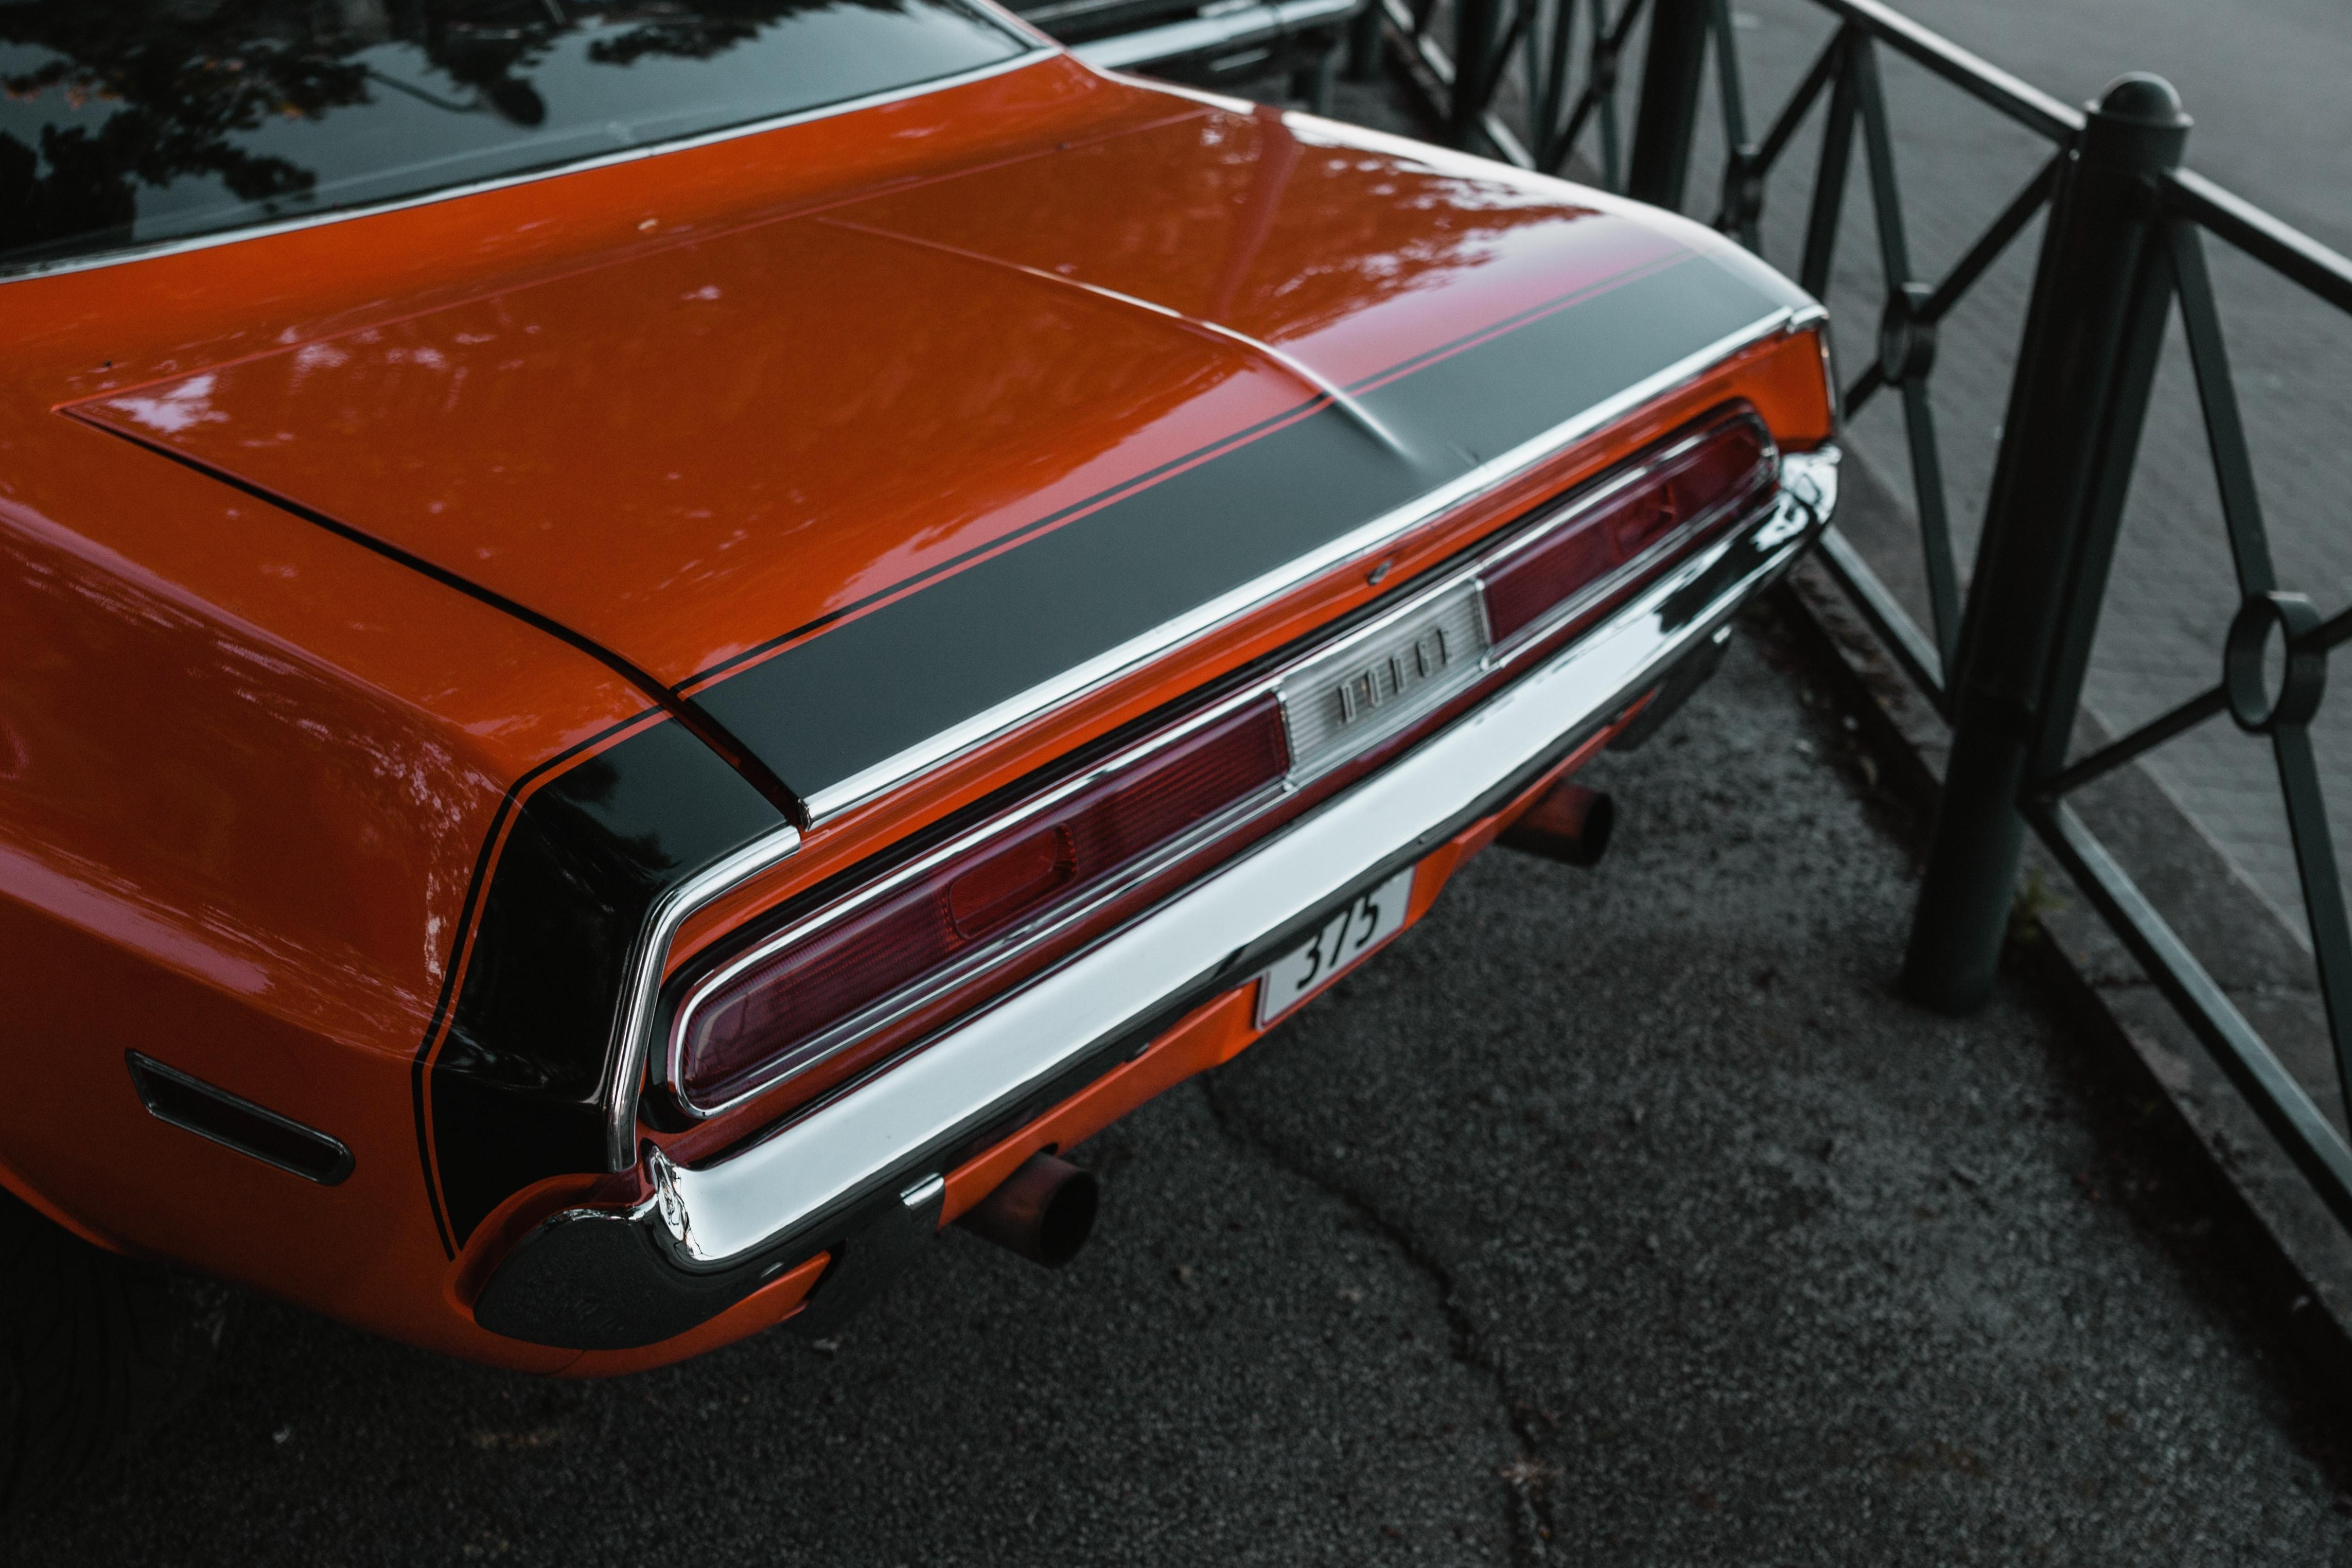dodge: (1299, 605, 1475, 768)
